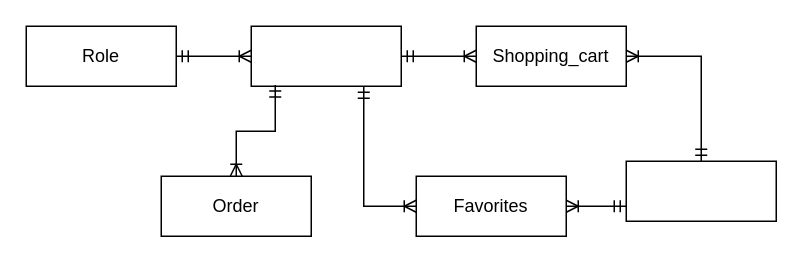
The diagram is 803 pixels wide and 263 high, and some of its shapes have lost their labels. The shapes that lost their labels are listed below. From the top down, each one's centre as x and y in pixels, then its label:
At [325,55]: "User".
At [700,190]: "Product".
